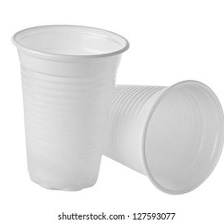glass: (8, 20, 134, 197), (73, 70, 223, 195)
